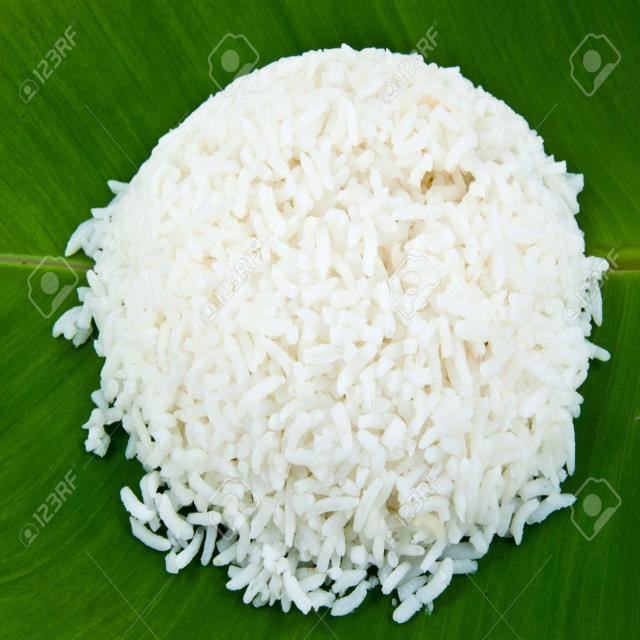arroz: (43, 35, 608, 621)
